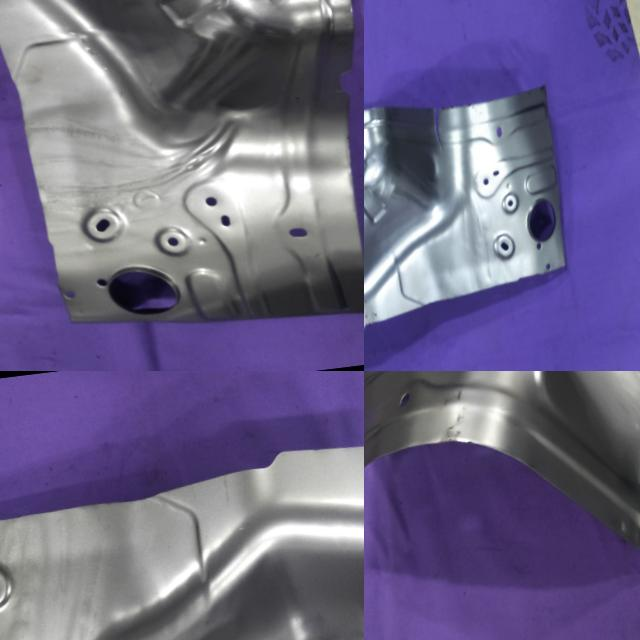Defect: (315, 43, 364, 114), (426, 102, 448, 154)
Healthy: (0, 430, 364, 640), (364, 371, 640, 608)
rust: (444, 85, 546, 115), (364, 290, 393, 344)
